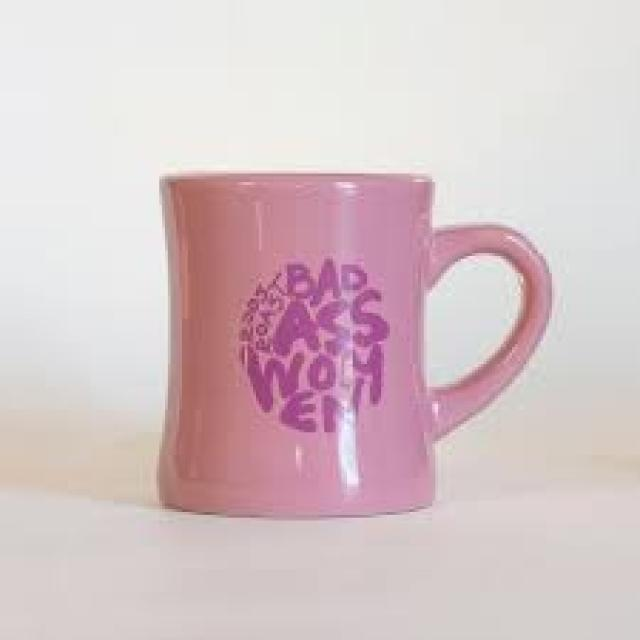taza: (156, 170, 554, 522)
